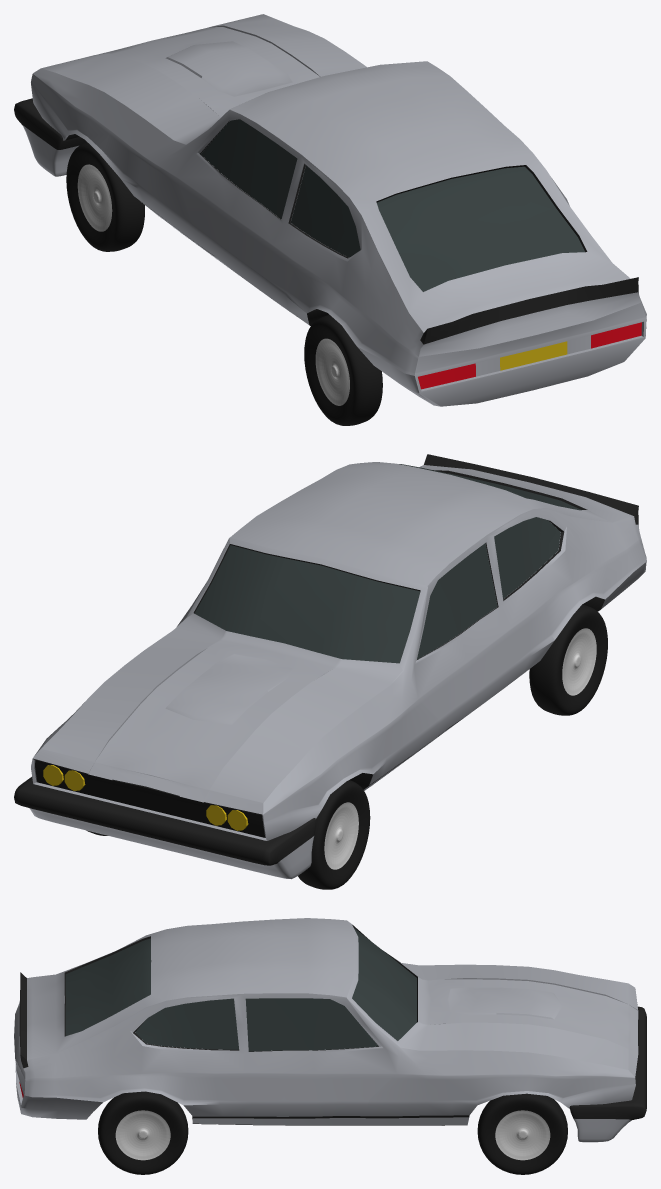
3 views of the same model, one above another, from view 1: azimuth 30°, elevation 25°; view 2: azimuth 150°, elevation 25°; view 3: azimuth 270°, elevation 25° (orthographic). The views are drawn at different scales.
Visible parts, largest first — view 1: Capri, Capri.001; view 2: Capri, Capri.001; view 3: Capri, Capri.001.
Boxes of the visible parts, x1,y1,x2,y2 form: Capri: (14, 14, 646, 406); Capri.001: (66, 142, 382, 425); Capri: (14, 454, 646, 879); Capri.001: (86, 604, 607, 889); Capri: (14, 918, 646, 1142); Capri.001: (98, 1091, 567, 1174).
Size of the model in its own units: 187 by 156 by 487.
